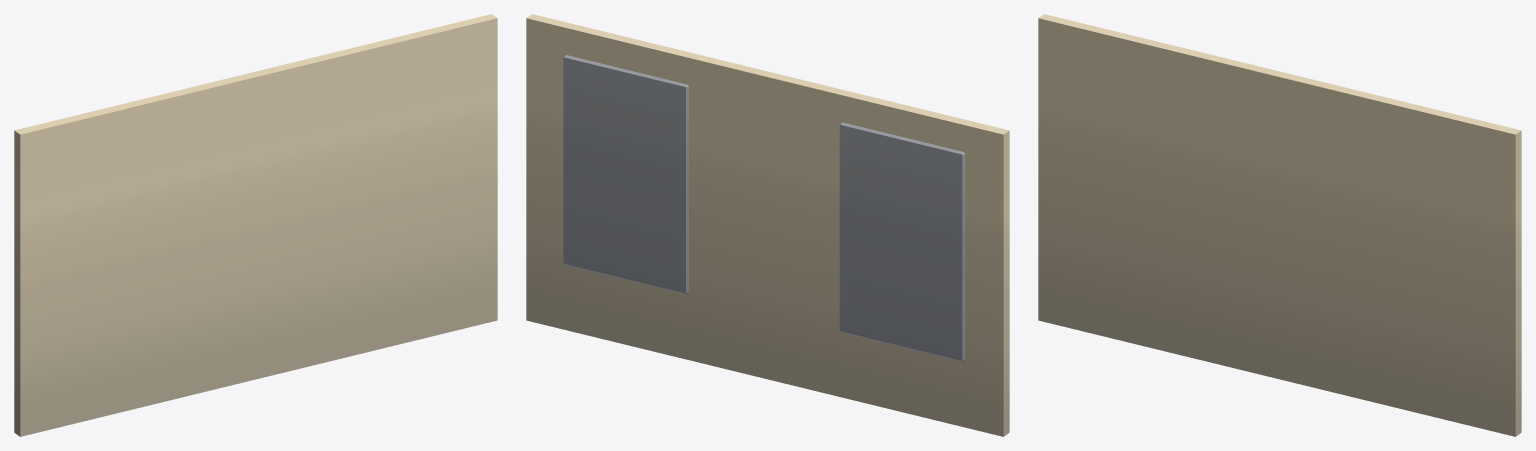
File: Parede_Fundo.glb
3 renders of one model, left to right at view 1: azimuth 30°, elevation 25°; view 2: azimuth 150°, elevation 25°; view 3: azimuth 330°, elevation 25°, orthographic.
Visible parts, largest first — view 1: Parede_Fundo_Malha; view 2: Parede_Fundo_Malha; view 3: Parede_Fundo_Malha.
Part boxes in pixels (x1,y1,x2,y2): Parede_Fundo_Malha: (14,14,497,436); Parede_Fundo_Malha: (526,14,1009,436); Parede_Fundo_Malha: (1038,14,1521,436).
Size of the model in its own units: 3.8 by 2.3 by 0.105.
1 material, 1 textured.
